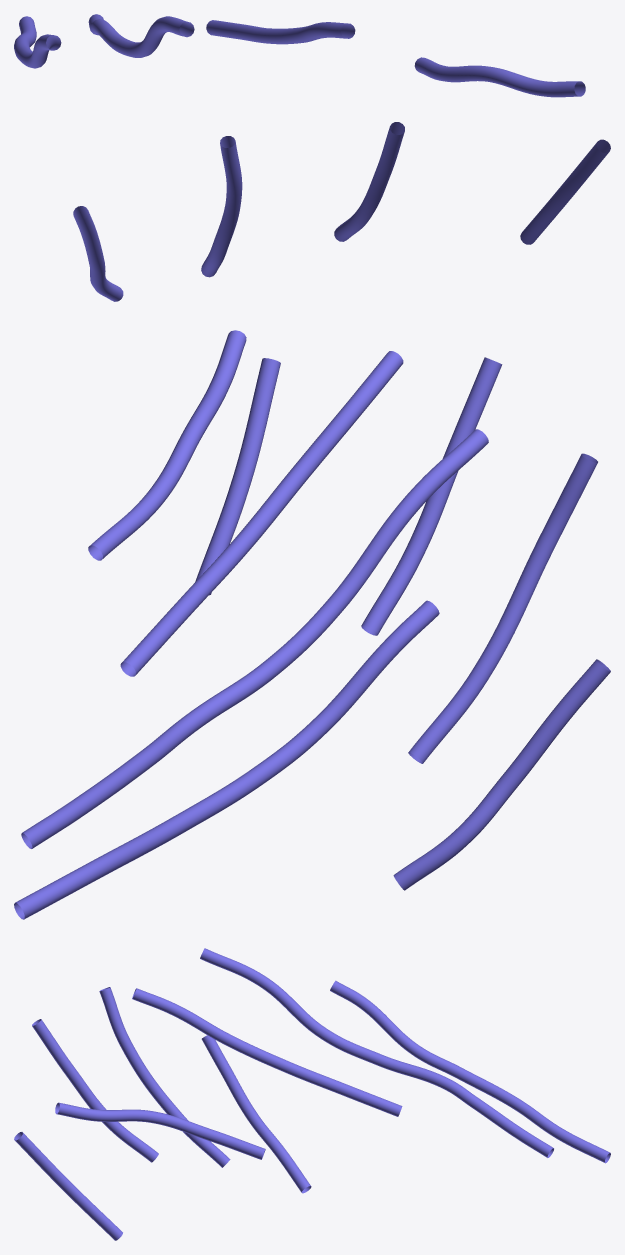
File: Intercapitular_veins_foot_right.glb
3 views of the same model, one above another, from view 1: azimuth 30°, elevation 25°; view 2: azimuth 150°, elevation 25°; view 3: azimuth 270°, elevation 25° (orthographic). The views are drawn at different scales.
Parts seen in each view (by area): view 1: Intercapitular_veins_of_foot.r_BezierCurve.368; view 2: Intercapitular_veins_of_foot.r_BezierCurve.368; view 3: Intercapitular_veins_of_foot.r_BezierCurve.368.
Boxes of the visible parts, x1,y1,x2,y2 form: Intercapitular_veins_of_foot.r_BezierCurve.368: [14, 14, 610, 301]; Intercapitular_veins_of_foot.r_BezierCurve.368: [14, 330, 610, 919]; Intercapitular_veins_of_foot.r_BezierCurve.368: [14, 948, 610, 1240].
Bounding box in the file's own units: 0.0423 × 0.0324 × 0.0706.
